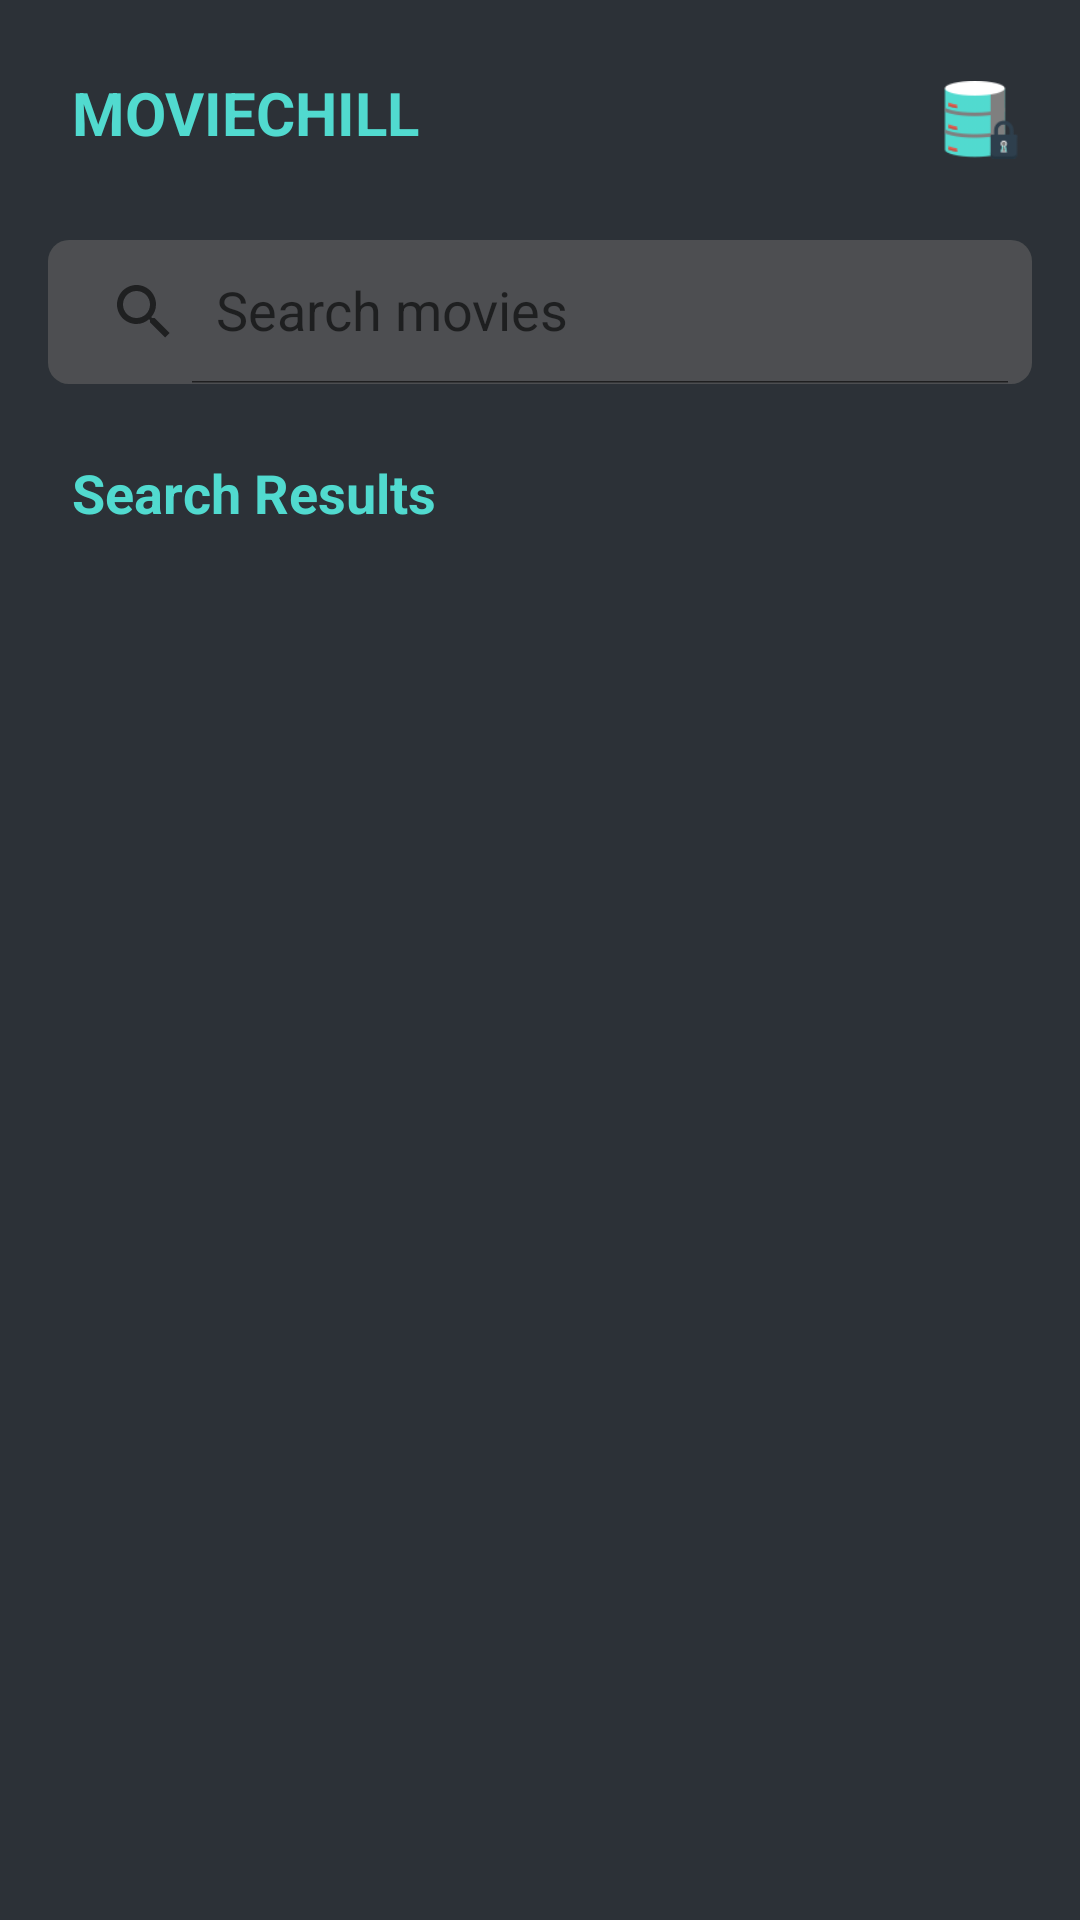

Screen size 1080×1920. Icon name, then its center in pixels as (x,y):
saved: (976,119)
